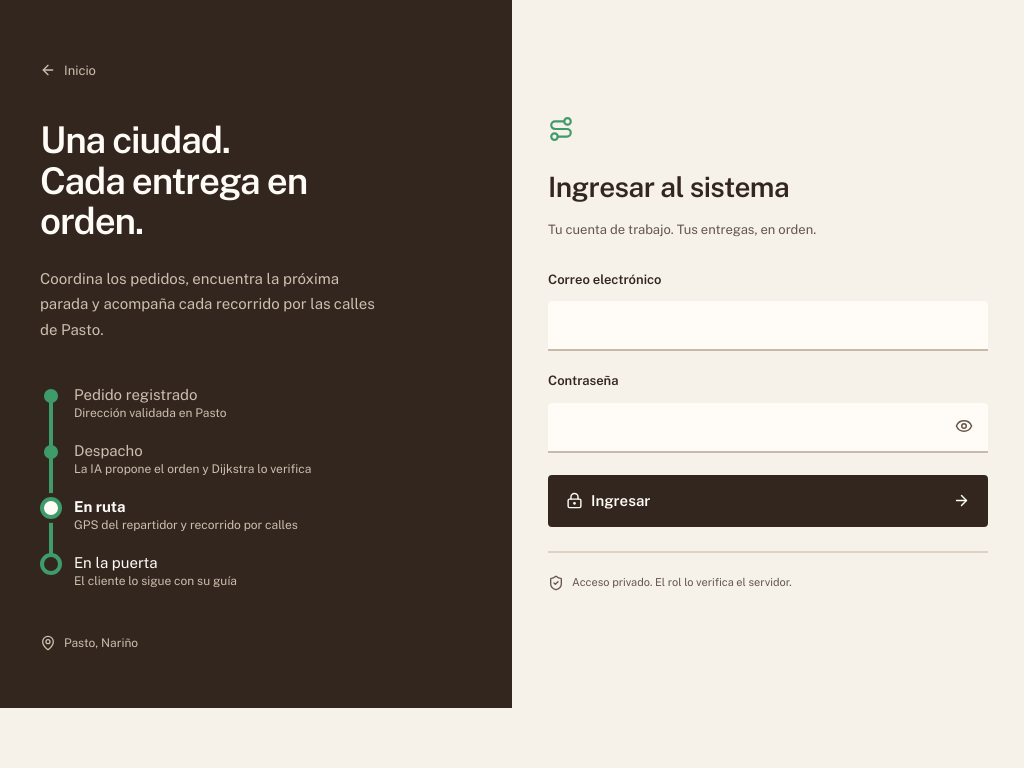
Test: acceso con correo y contraseña › muestra rechazo de credenciales sin navegar
Type "a@example.com" into the field labelled "Correo electrónico".
click(768, 326); type("a@example.com")  # box [548,301,988,351]
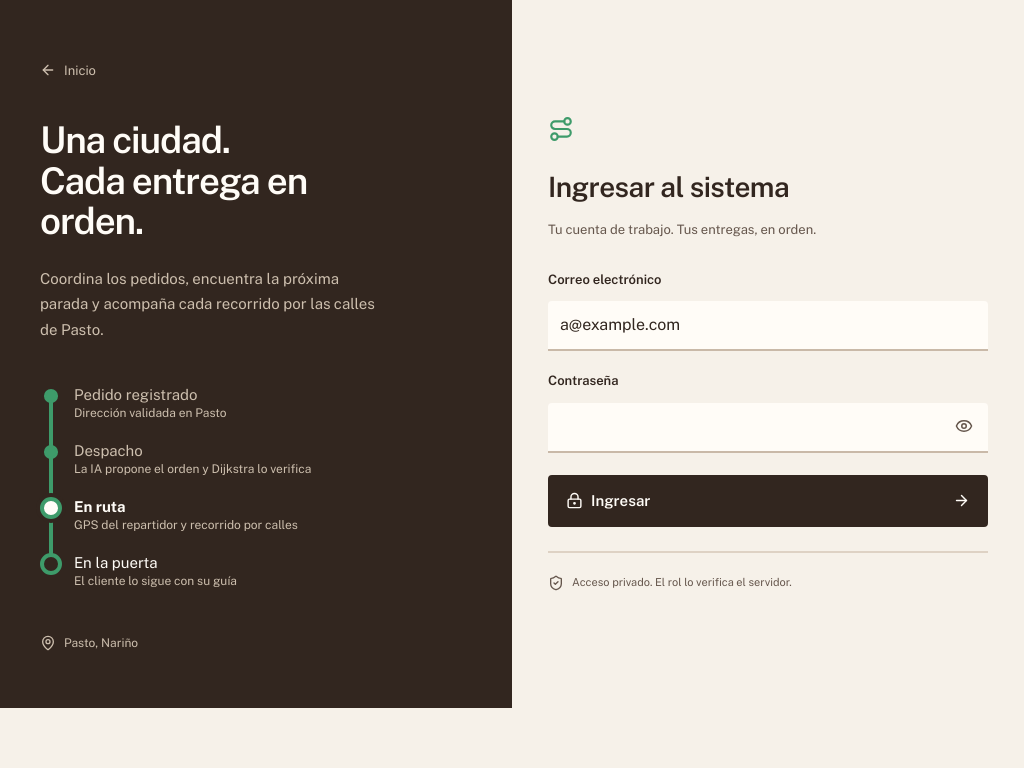
Type " contraseña privada " into the password field labelled "Contraseña".
click(768, 428); type(" contraseña privada ")  # box [548,403,988,453]
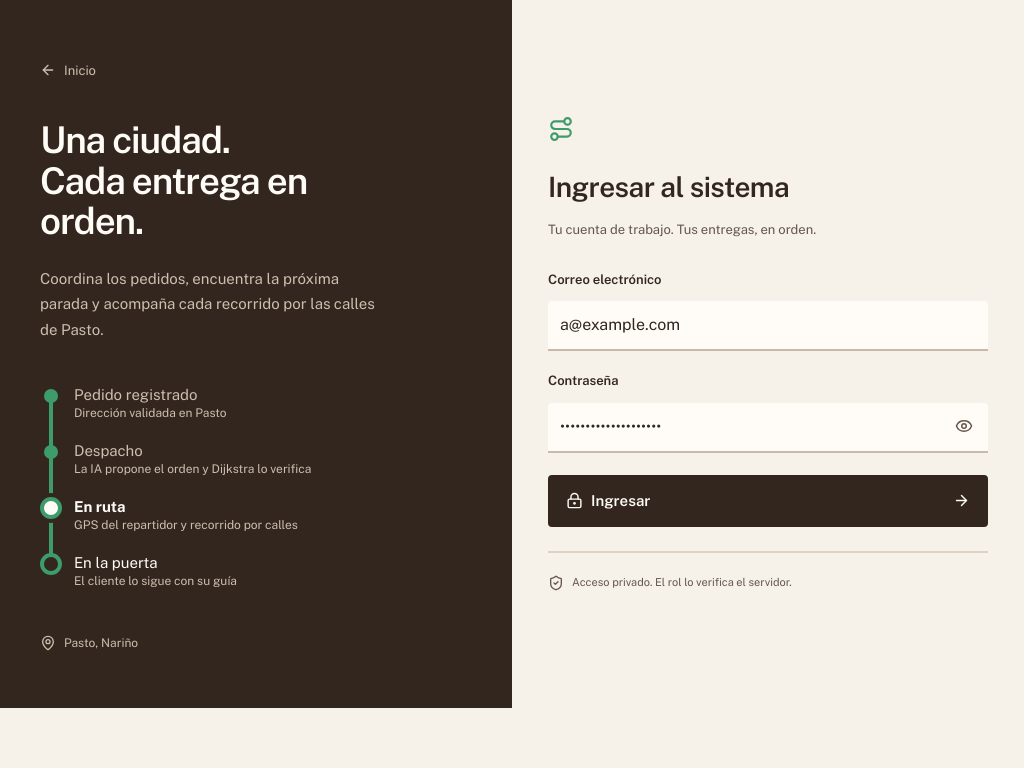
Click the button "Ingresar".
click(621, 501)  # box [548,475,988,527]
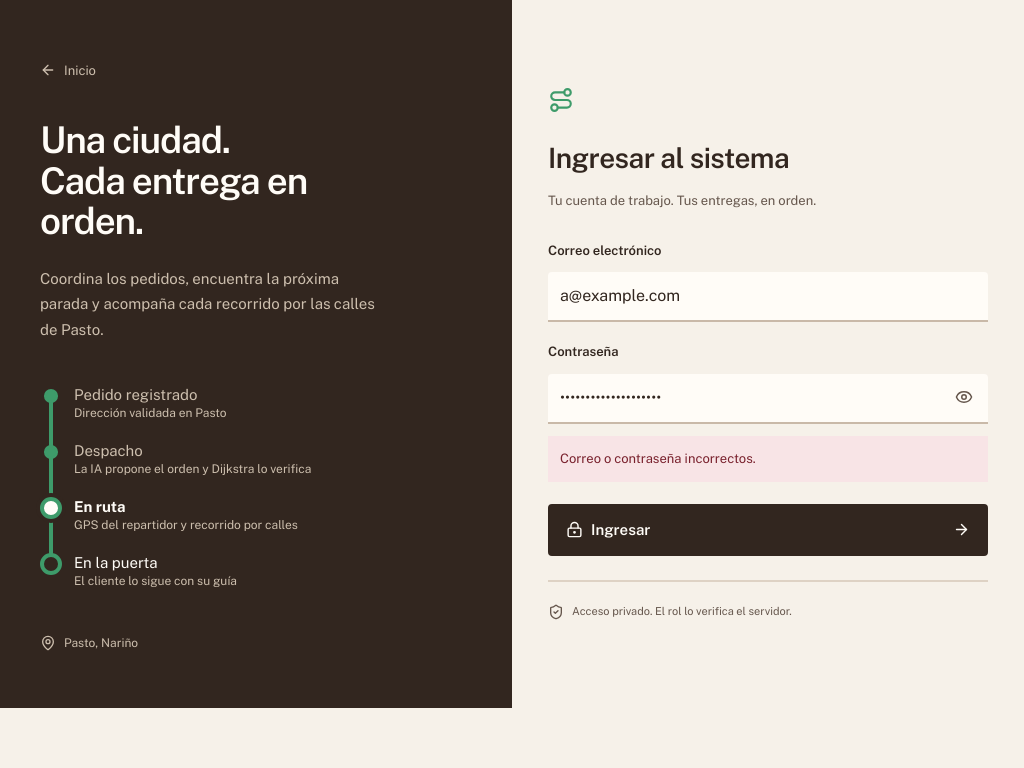
Check: the message reads "Correo o contraseña incorrectos.", box [560,451,756,466]
